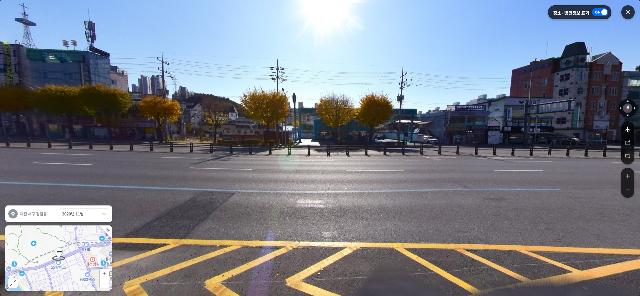ginkgo: (77, 82, 132, 141), (239, 85, 292, 146), (28, 84, 82, 139), (137, 93, 182, 144), (314, 91, 356, 145), (355, 92, 394, 145), (1, 81, 32, 139)
other: (200, 96, 230, 145)
